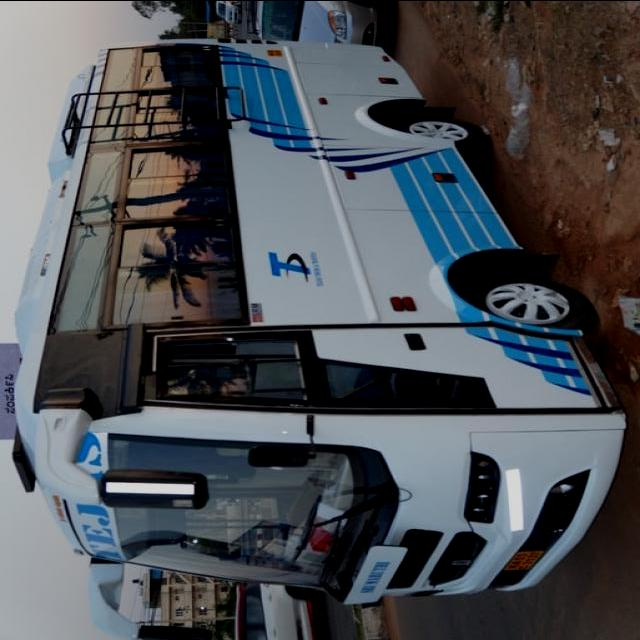bus: (10, 38, 629, 607)
